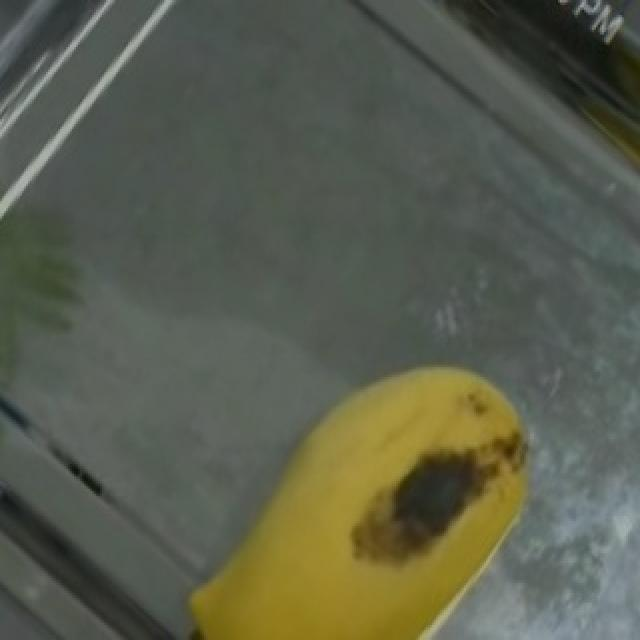fruit: (148, 312, 556, 640)
